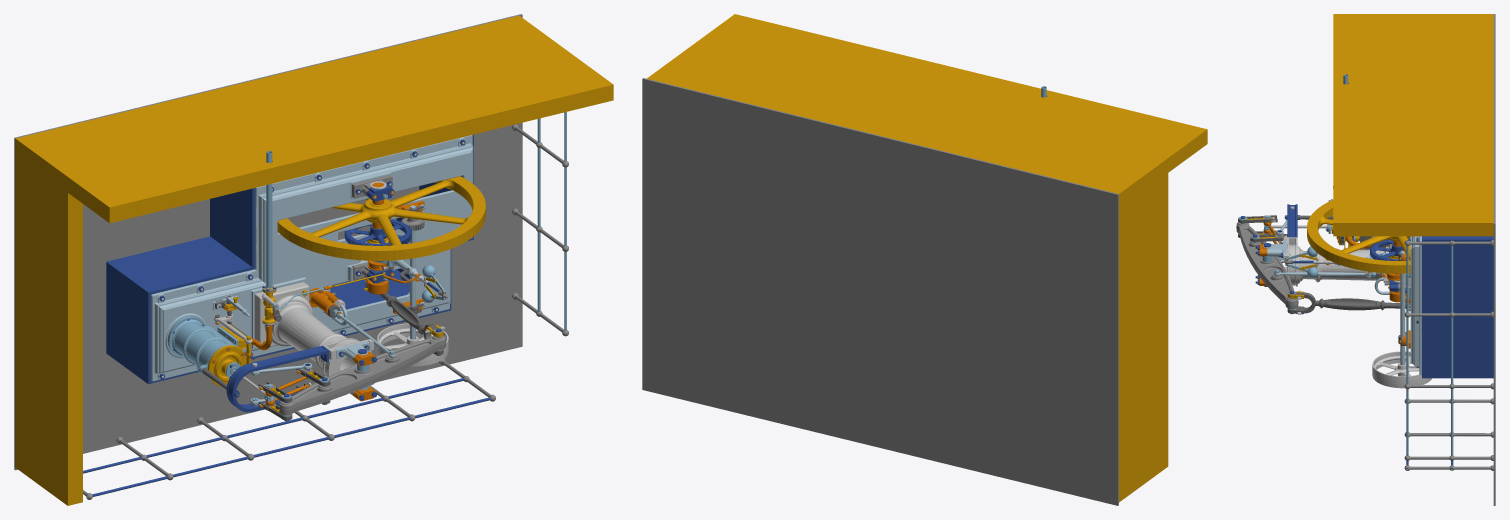
Rendered from edges.glb.
3 views of the same model, side by side, from view 1: azimuth 30°, elevation 25°; view 2: azimuth 150°, elevation 25°; view 3: azimuth 270°, elevation 25° (orthographic). The views are drawn at different scales.
Parts seen in each view (by area): view 1: KFnC_236, KFPH_345, KFbK_43, KFTH_104, KFnH_202, KFXK_310, KFvJ_60, KFLK_298, KFTK_212, KFzC_252, KFzC_427, KFXH_36 (+5 smaller); view 2: KFPH_345, KFnC_236; view 3: KFnC_236, KFTH_104, KFnH_202, KFvJ_60, KFXK_310, KFbK_43, KFPH_345, KFXH_36, KFjI_208, KFrC_353, KFrC_205, KFbH_371 (+10 smaller).
Boxes of the visible parts, <box> form: KFnC_236: <box>15,15,613,505</box>; KFPH_345: <box>14,14,522,470</box>; KFbK_43: <box>151,135,473,381</box>; KFTH_104: <box>106,134,473,383</box>; KFnH_202: <box>277,176,485,260</box>; KFXK_310: <box>254,282,373,385</box>; KFvJ_60: <box>279,335,446,415</box>; KFLK_298: <box>167,316,243,381</box>; KFTK_212: <box>226,345,328,412</box>; KFzC_252: <box>92,397,490,496</box>; KFzC_427: <box>83,378,464,473</box>; KFXH_36: <box>377,323,448,366</box>; KFPH_345: <box>642,78,1118,505</box>; KFnC_236: <box>647,14,1207,502</box>; KFnC_236: <box>1333,14,1493,236</box>; KFTH_104: <box>1422,236,1493,378</box>; KFnH_202: <box>1307,200,1410,273</box>; KFvJ_60: <box>1236,222,1298,309</box>; KFXK_310: <box>1283,237,1391,286</box>; KFbK_43: <box>1408,236,1421,374</box>; KFPH_345: <box>1493,14,1495,505</box>; KFXH_36: <box>1372,351,1431,388</box>; KFjI_208: <box>1296,292,1410,313</box>; KFrC_353: <box>1451,245,1453,456</box>; KFrC_205: <box>1406,246,1408,455</box>; KFbH_371: <box>1400,251,1405,365</box>.
Bounding box in the file's own units: 0.639 × 0.4107 × 0.333.
